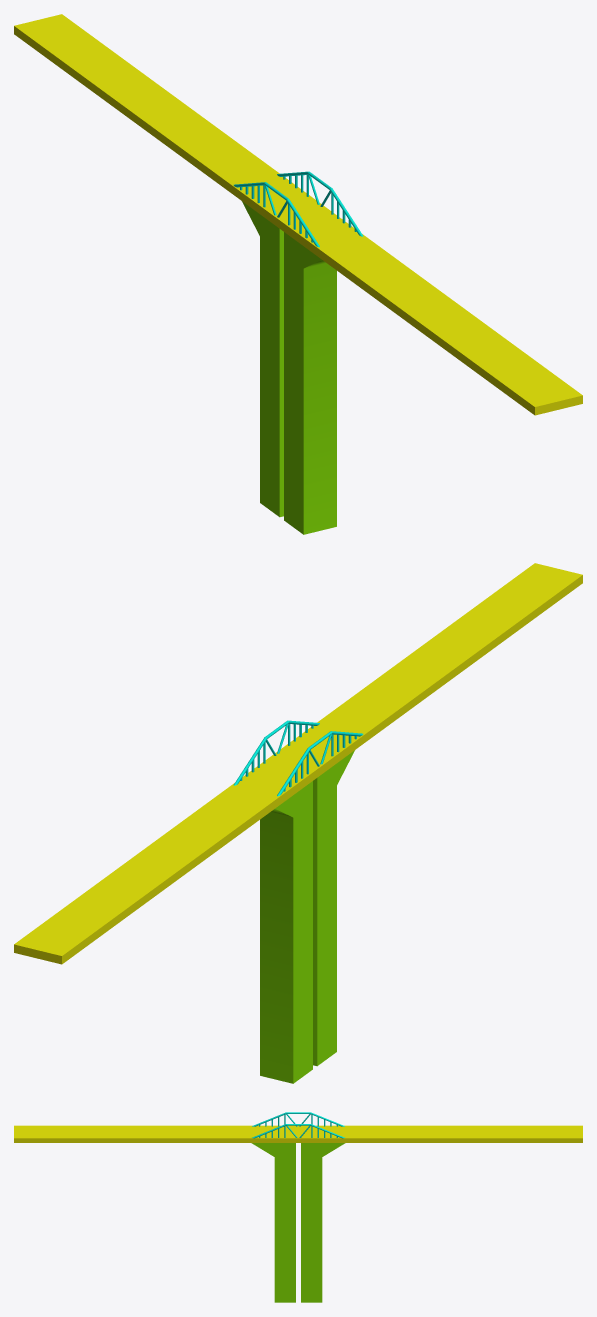
The model's file is Bridge.fbx.
3 views of the same model, one above another, from view 1: azimuth 30°, elevation 25°; view 2: azimuth 150°, elevation 25°; view 3: azimuth 270°, elevation 25° (orthographic). The views are drawn at different scales.
Visible parts, largest first — view 1: Landing, Underside, support; view 2: Landing, Underside, support; view 3: Landing, Underside, support.
Part boxes in pixels (bbox=[...]): Landing: bbox=[14, 14, 582, 415]; Underside: bbox=[242, 201, 336, 534]; support: bbox=[233, 171, 363, 247]; Landing: bbox=[14, 563, 582, 964]; Underside: bbox=[260, 750, 354, 1083]; support: bbox=[233, 720, 363, 796]; Landing: bbox=[14, 1125, 582, 1142]; Underside: bbox=[251, 1143, 345, 1302]; support: bbox=[252, 1112, 344, 1138].
Bounding box in the file's own units: 1.62 × 10.65 × 30.5.
